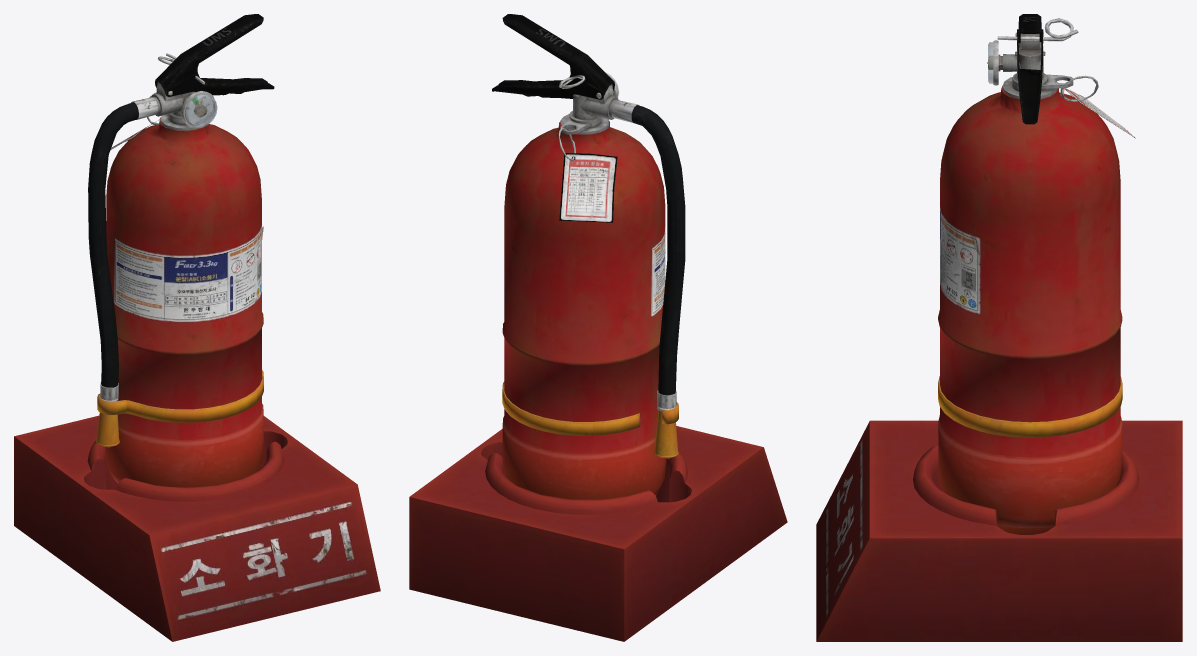
Rendered from korean_fire_extinguisher_01.glb.
3 renders of one model, left to right at view 1: azimuth 30°, elevation 25°; view 2: azimuth 150°, elevation 25°; view 3: azimuth 270°, elevation 25°, orthographic. The views are drawn at different scales.
Visible parts, largest first — view 1: korean_fire_extinguisher_01; view 2: korean_fire_extinguisher_01; view 3: korean_fire_extinguisher_01.
Part boxes in pixels (bbox=[...]): korean_fire_extinguisher_01: bbox=[14, 14, 380, 641]; korean_fire_extinguisher_01: bbox=[409, 14, 787, 641]; korean_fire_extinguisher_01: bbox=[816, 14, 1182, 641].
Bounding box in the file's own units: 0.279 × 0.6591 × 0.3674.
Materials: 3 (3 with a texture image).
